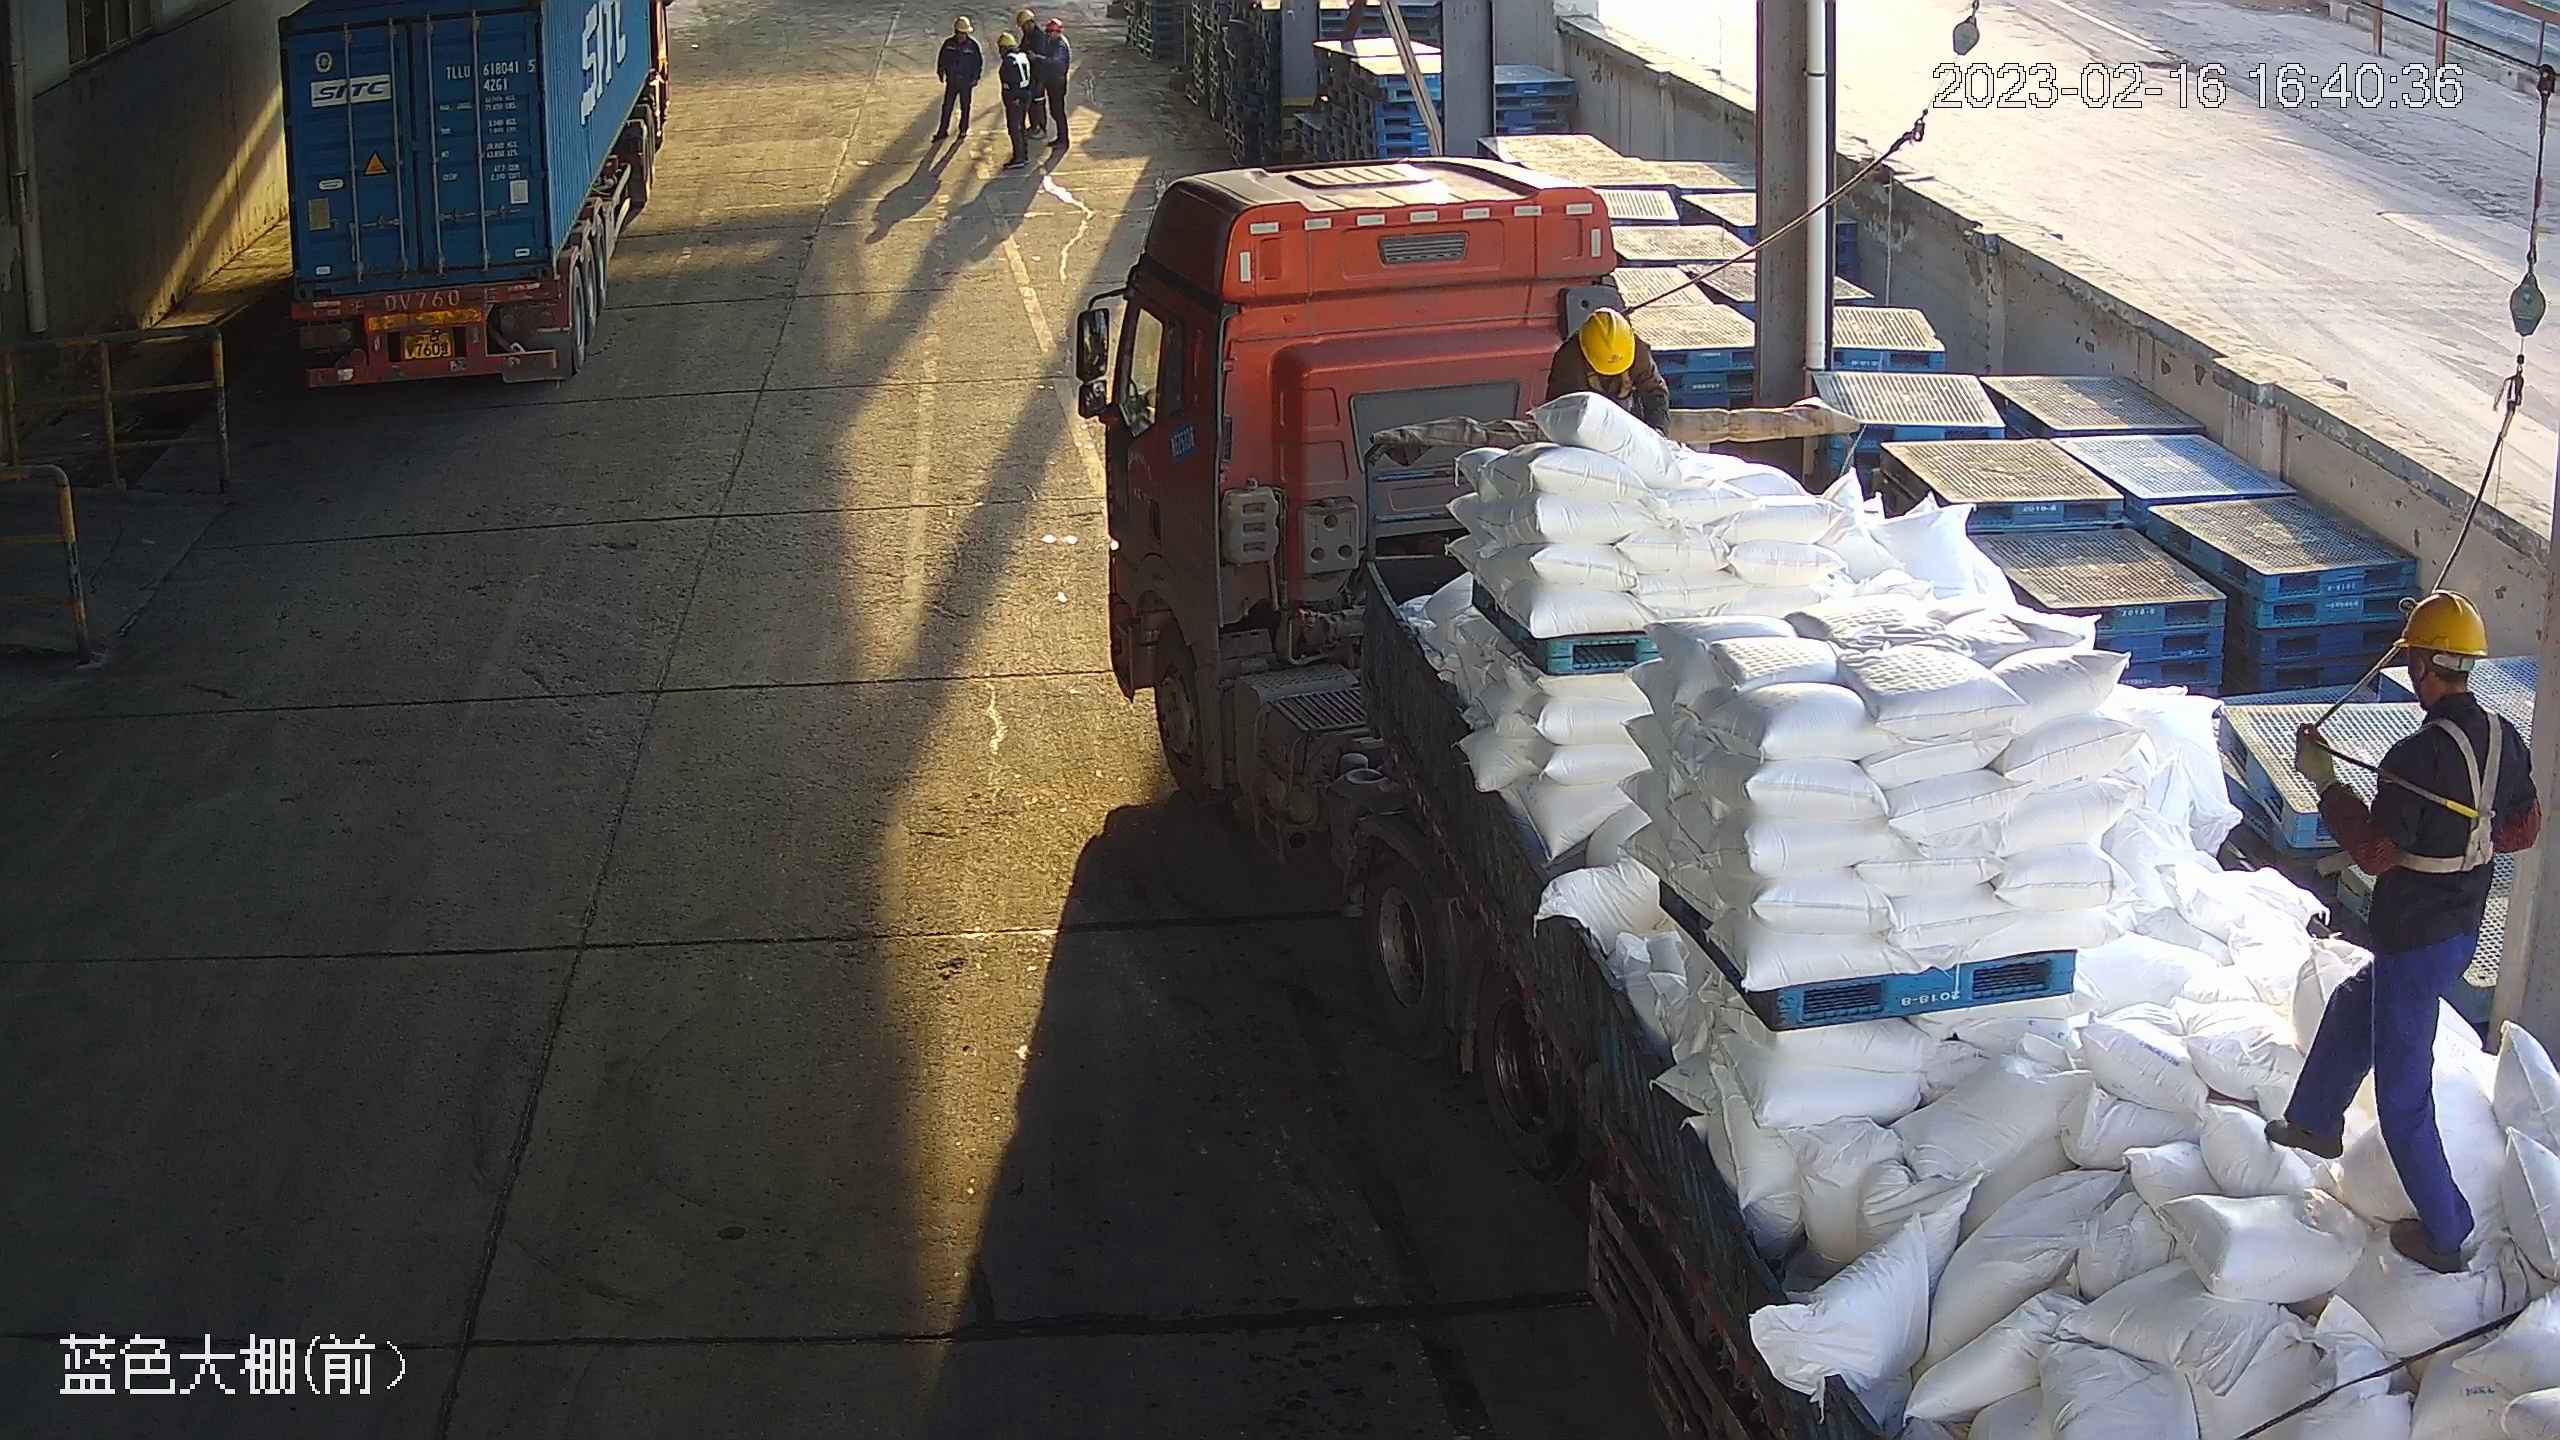belt: (2389, 705, 2503, 874), (1576, 348, 1636, 401)
head: (2378, 589, 2529, 774), (1553, 307, 1657, 380), (938, 15, 977, 49), (997, 31, 1030, 68), (1041, 17, 1069, 49)
helmet: (2392, 589, 2489, 658), (1578, 306, 1635, 376), (1017, 9, 1035, 26), (953, 16, 972, 32), (1045, 18, 1064, 33), (999, 31, 1017, 47)
people: (2262, 589, 2543, 1262), (929, 15, 983, 142), (996, 30, 1033, 168), (1037, 17, 1074, 151)
truck: (1105, 155, 2560, 1440), (274, 1, 678, 405)
